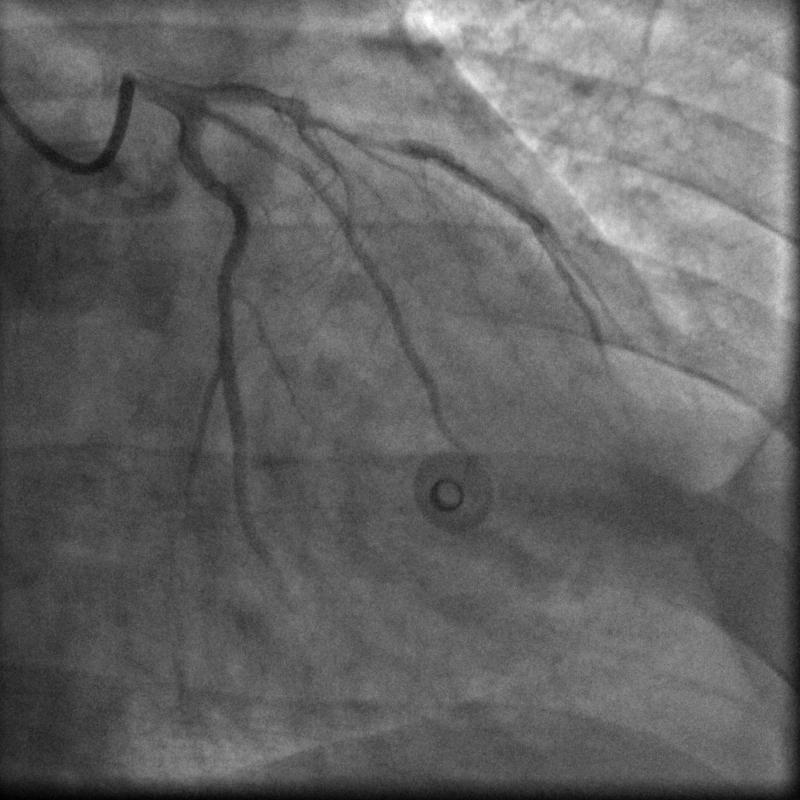Stenosis: (321, 116, 404, 156)
